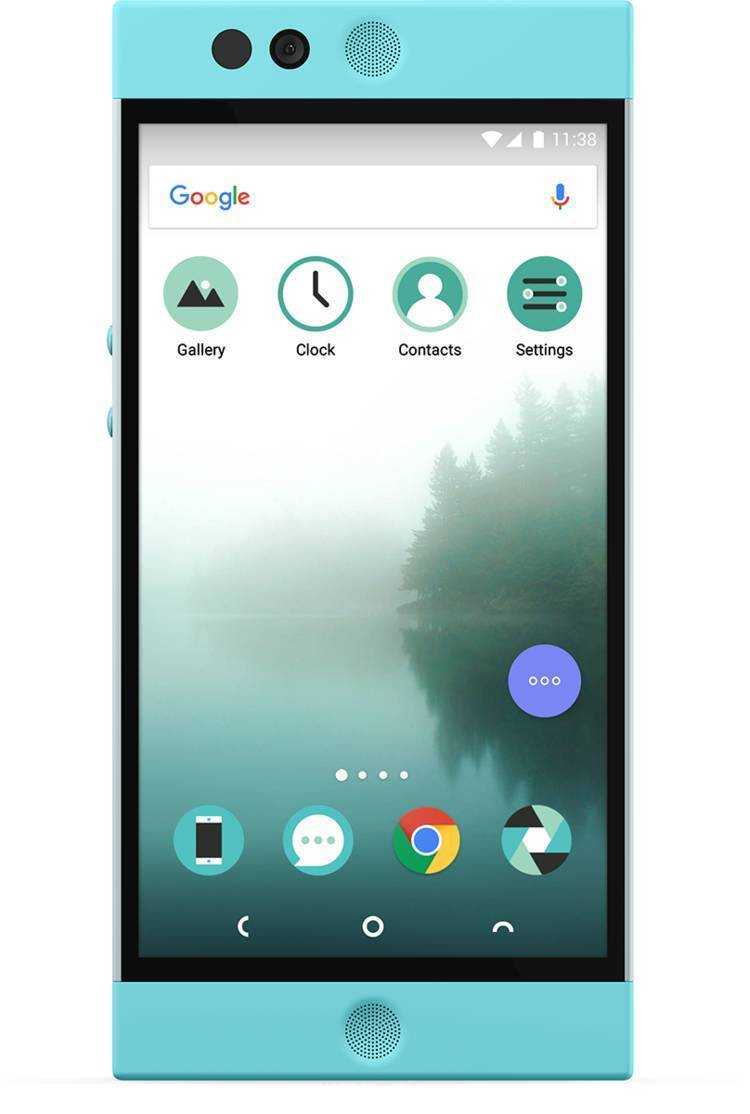phone: (113, 7, 636, 1083)
